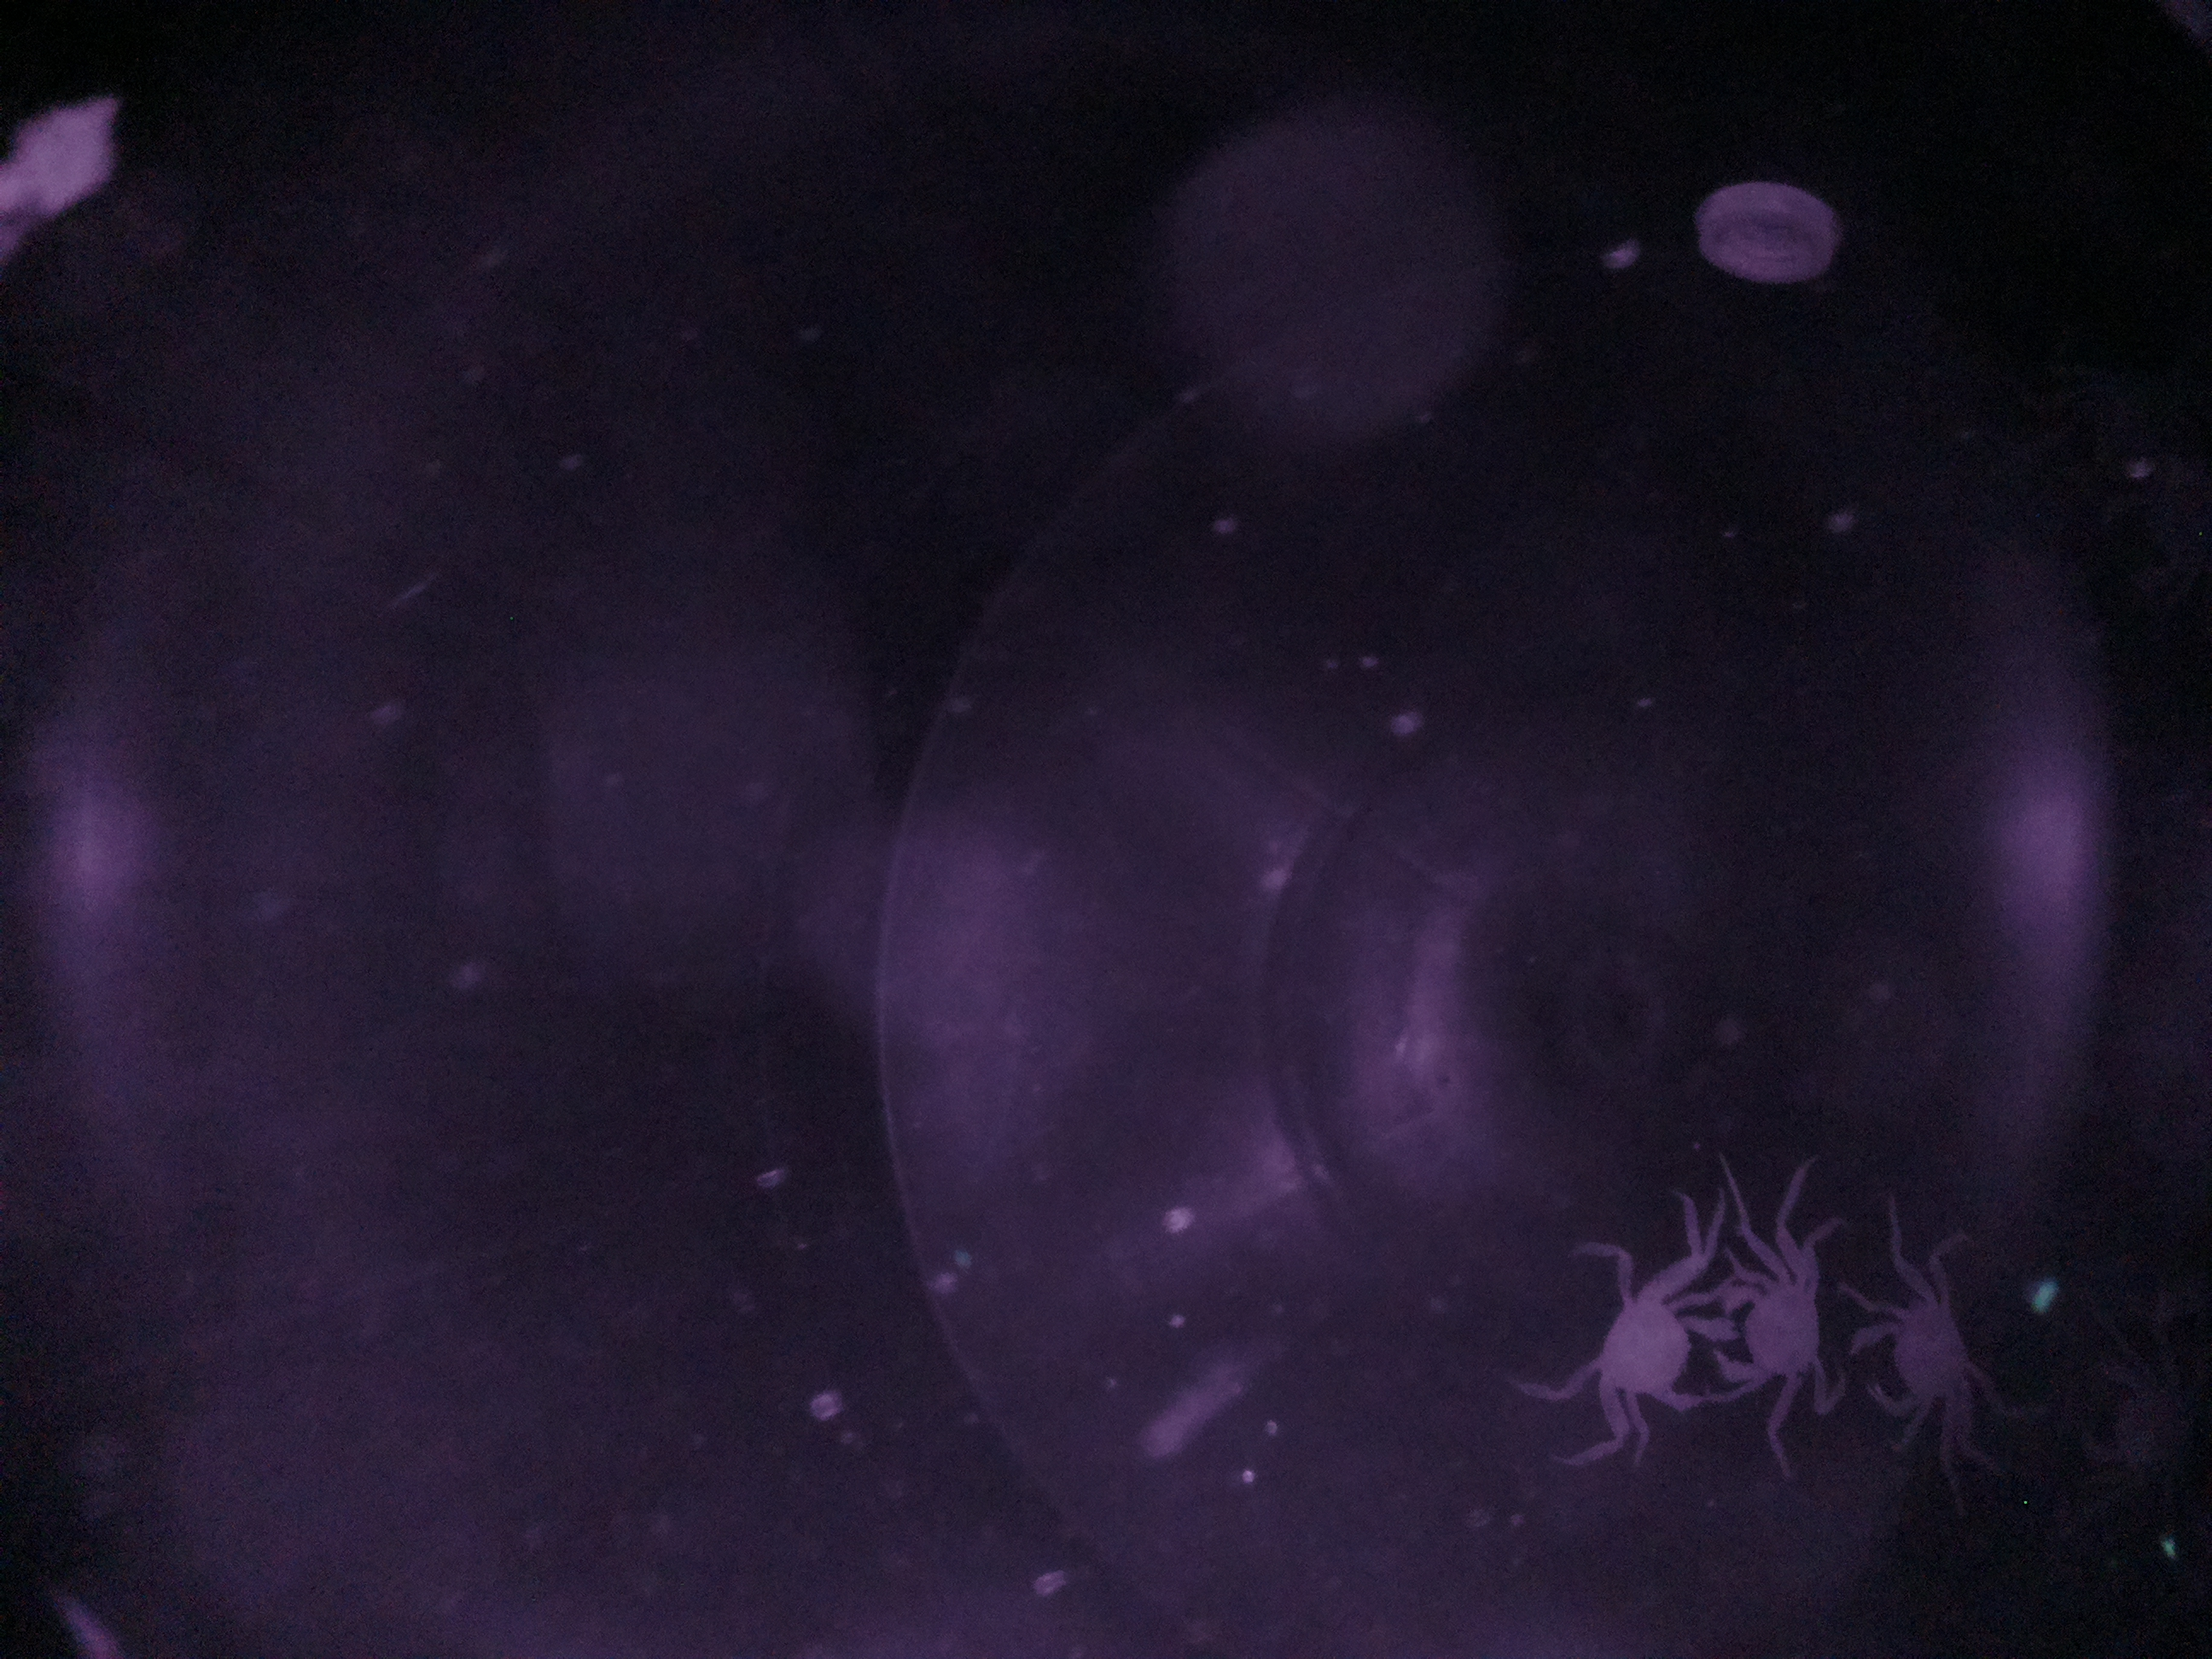Crab: (1714, 1202, 1848, 1441), (1851, 1260, 2006, 1453), (1571, 1237, 1702, 1452)
